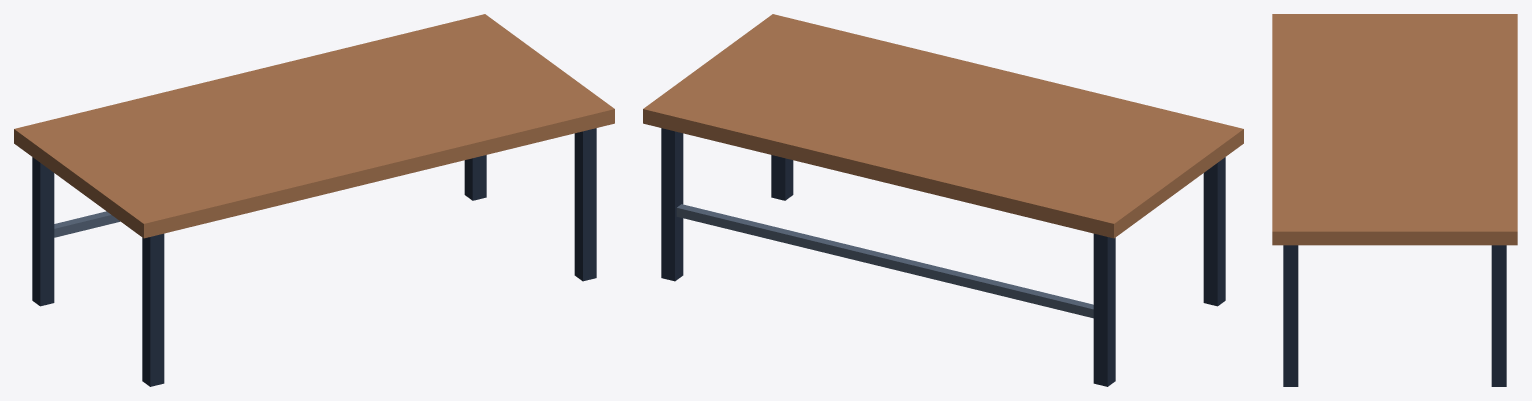
The model's file is officeRoundMeeting.glb.
The picture shows the model from 3 angles, left to right: view 1: azimuth 30°, elevation 25°; view 2: azimuth 150°, elevation 25°; view 3: azimuth 270°, elevation 25°; orthographic projection. The views are drawn at different scales.
Size of the model in its own units: 2.2 by 0.76 by 1.05.
